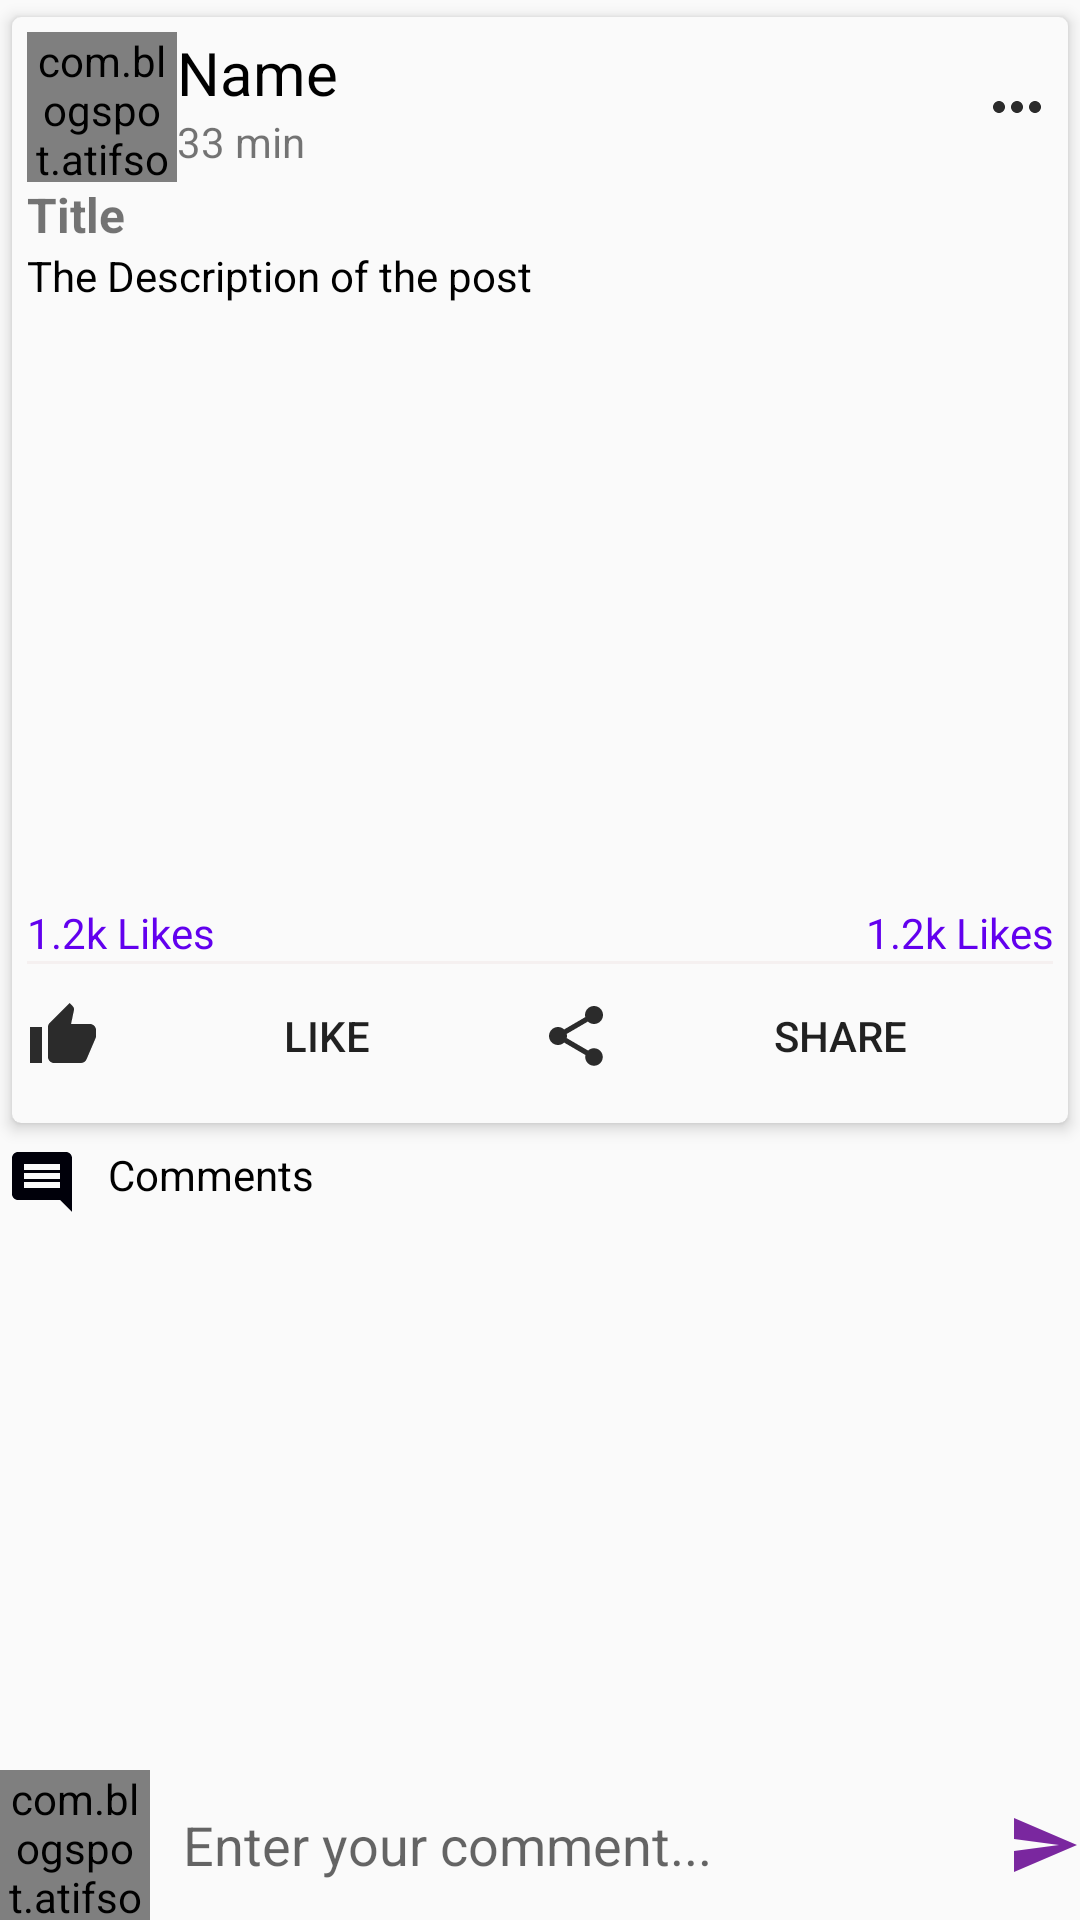

Named icons in this screenshot (1080px×1920px) and their centers, (x=x, y=y):
more: (x=1017, y=107)
send: (x=1045, y=1845)
